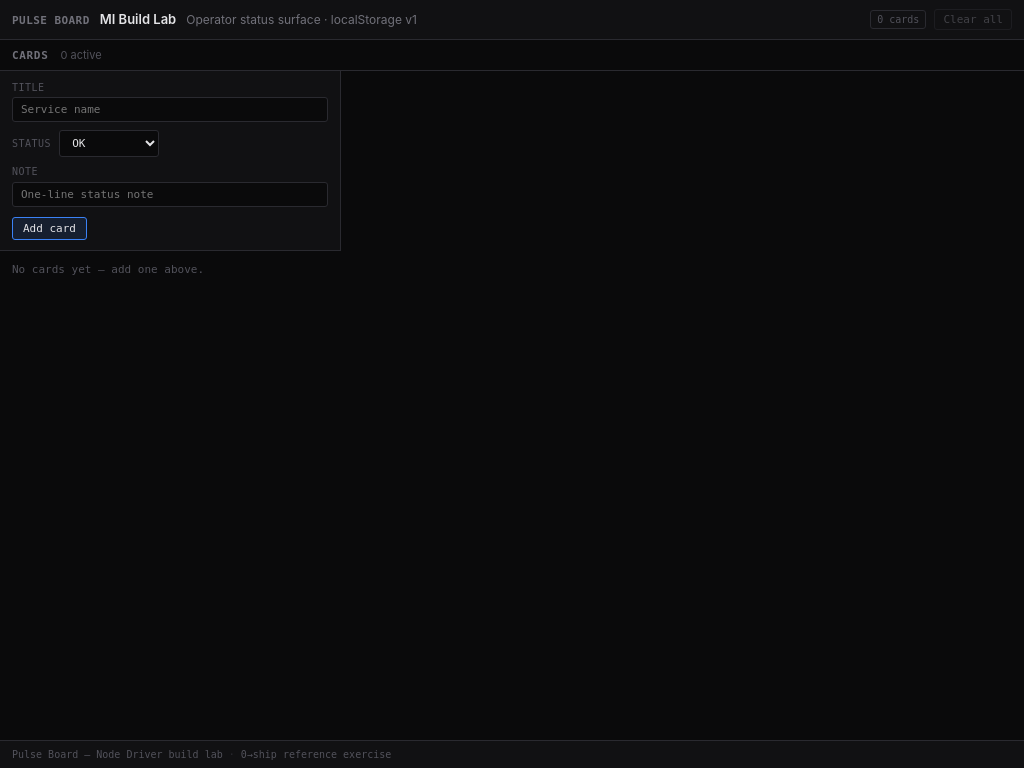
Test: App smoke › adds a card when form is submitted
In the field labelled "Title": (170, 110) [12,97,328,122], type "Deploy"
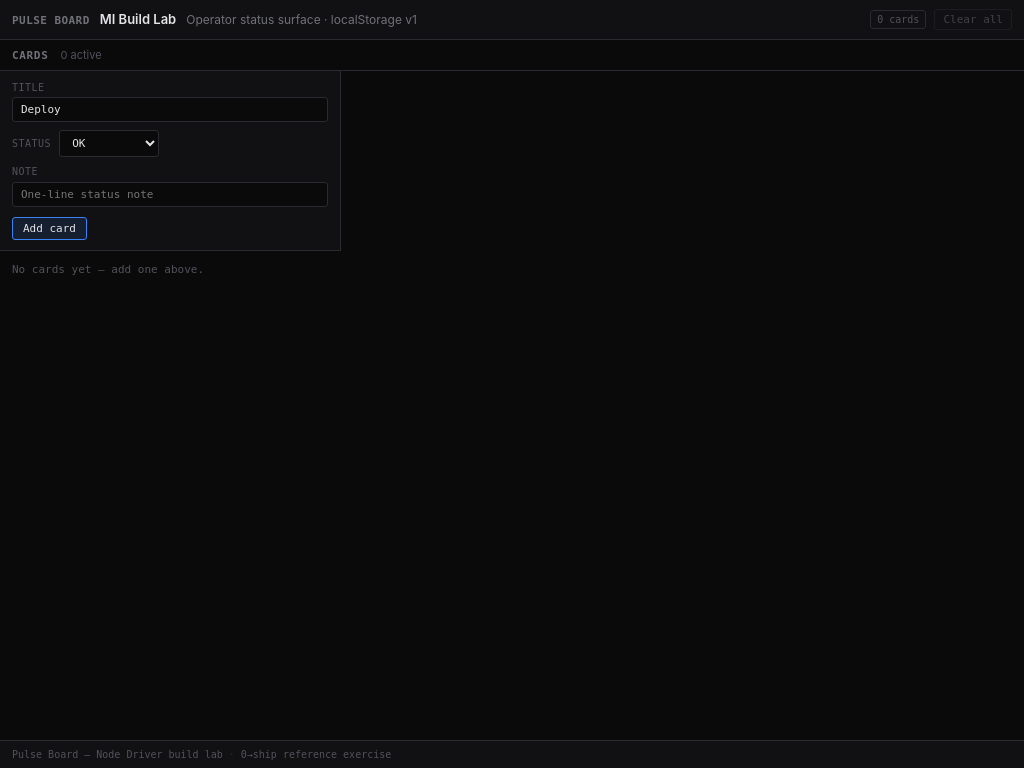
Select "OK" in the dropdown labelled "Status": (109, 144) [59,130,159,157]
In the field labelled "Note": (170, 194) [12,182,328,207], type "Pipeline green"
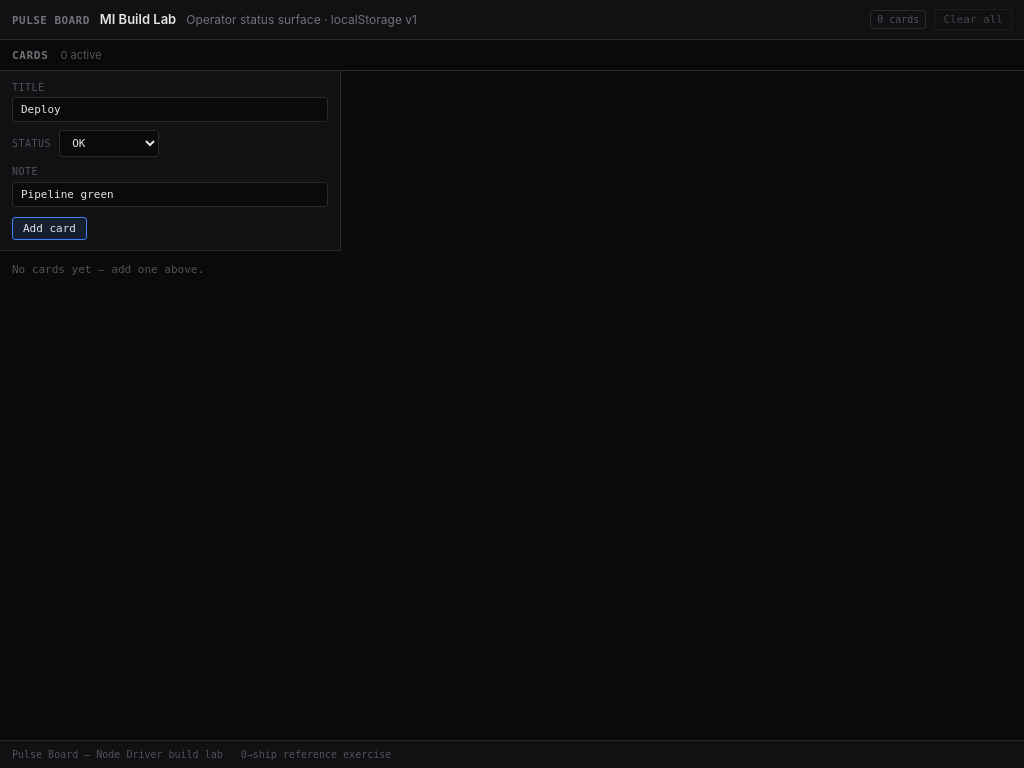
Click the button with test id "add-card-submit": click(50, 228) [12,217,87,240]
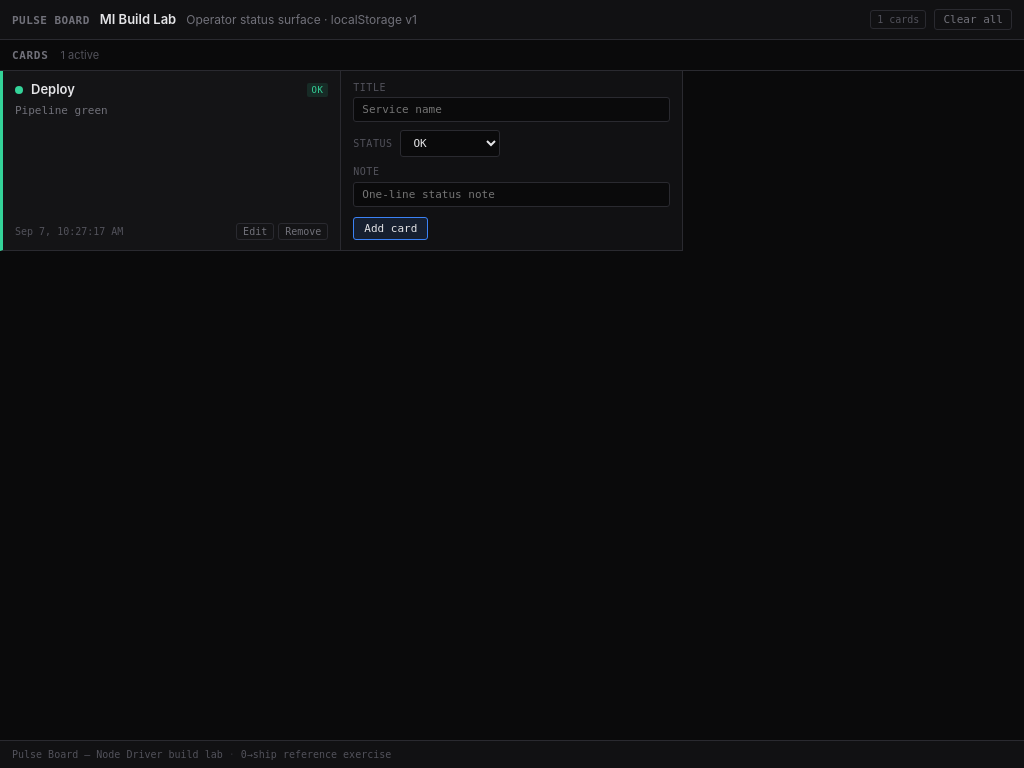
Check: the heading "Deploy" is shown, box [31,81,75,97]
Check: the text "Pipeline green" is shown, box [15,104,108,117]
Check: the text "OK" is shown, box [307,82,328,97]
